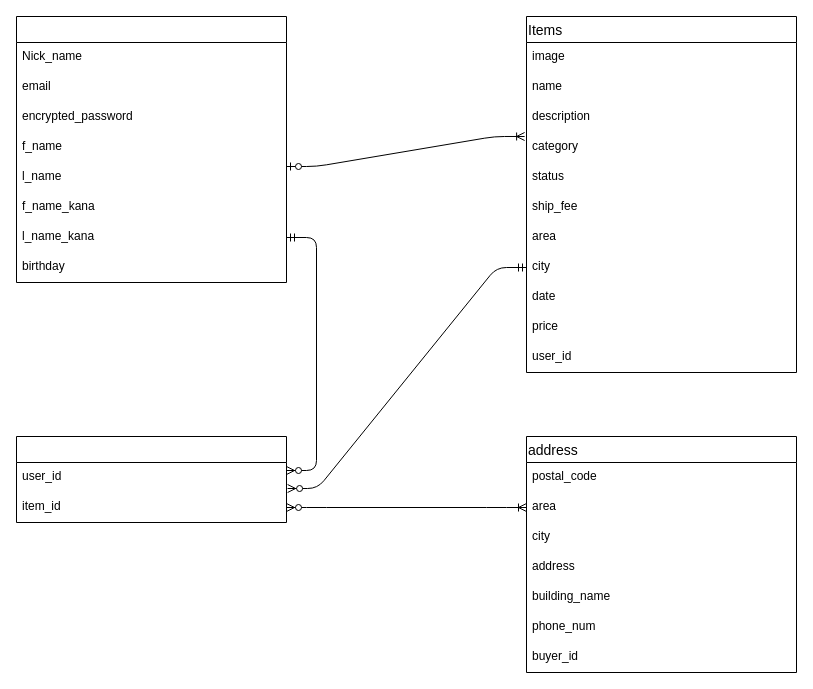
Some shapes in this 813 by 689 pixel diagram are drawn without their labels. Each missing label, with the box of its shape:
Buyer: (16, 436, 286, 522)
User: (16, 16, 286, 282)
